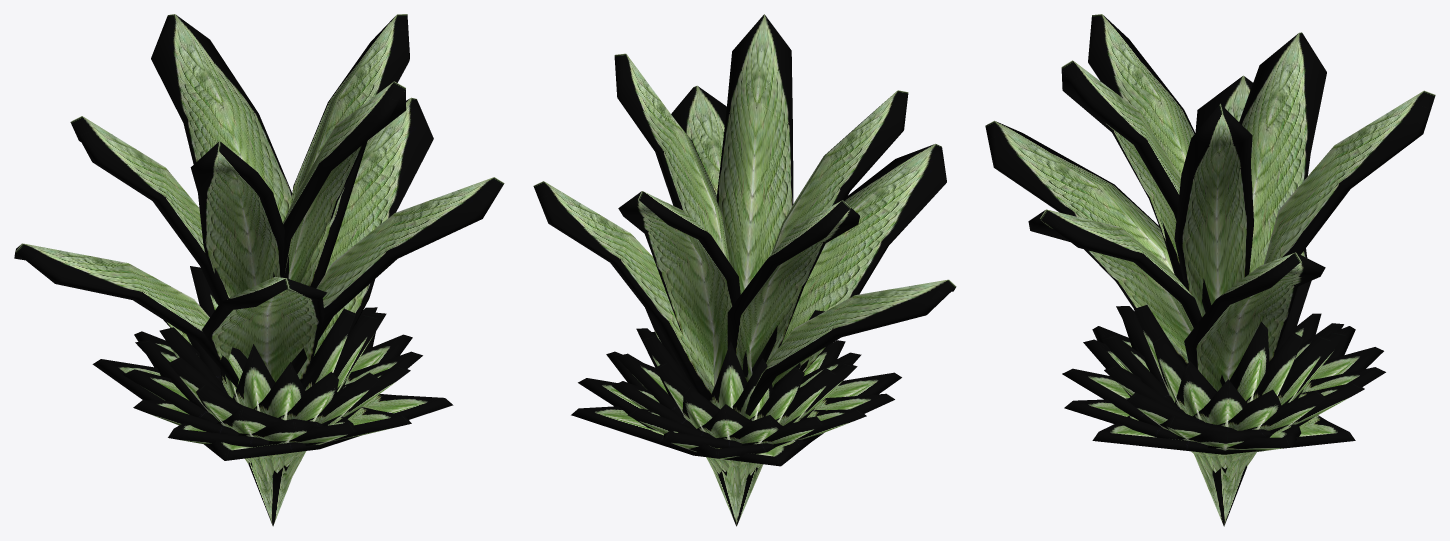
Rendered from p3_full.dae.
3 views of the same model, side by side, from view 1: azimuth 30°, elevation 25°; view 2: azimuth 150°, elevation 25°; view 3: azimuth 270°, elevation 25° (orthographic). The views are drawn at different scales.
Visible parts, largest first — view 1: Low-Poly_Plant__001.001; view 2: Low-Poly_Plant__001.001; view 3: Low-Poly_Plant__001.001.
Boxes of the visible parts, box(x1,y1,x2,y2) form: Low-Poly_Plant__001.001: box(14, 14, 504, 526); Low-Poly_Plant__001.001: box(533, 14, 956, 526); Low-Poly_Plant__001.001: box(985, 14, 1435, 526).
Size of the model in its own units: 1.05 by 0.9486 by 1.14.
Materials: 1 (1 with a texture image).
